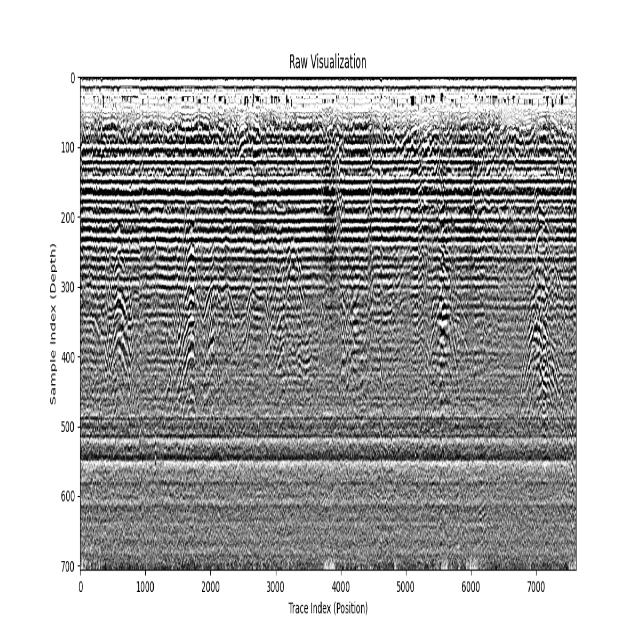anomaly: (207, 245, 323, 386), (514, 202, 566, 426), (335, 244, 393, 395), (178, 227, 204, 416), (109, 227, 135, 413), (433, 246, 456, 434)
